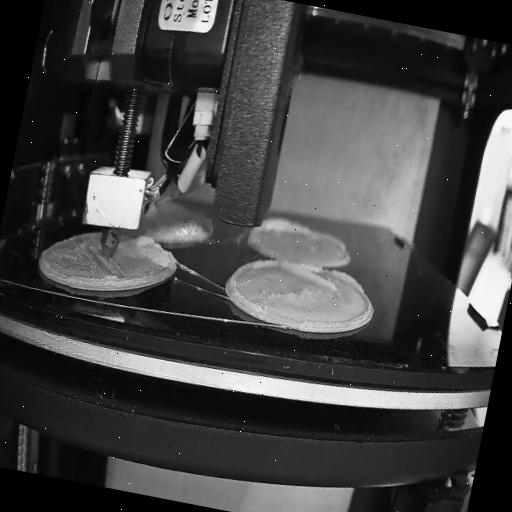over_extrusion: (278, 262, 369, 301), (226, 252, 276, 308), (248, 212, 307, 250), (122, 233, 158, 256)
